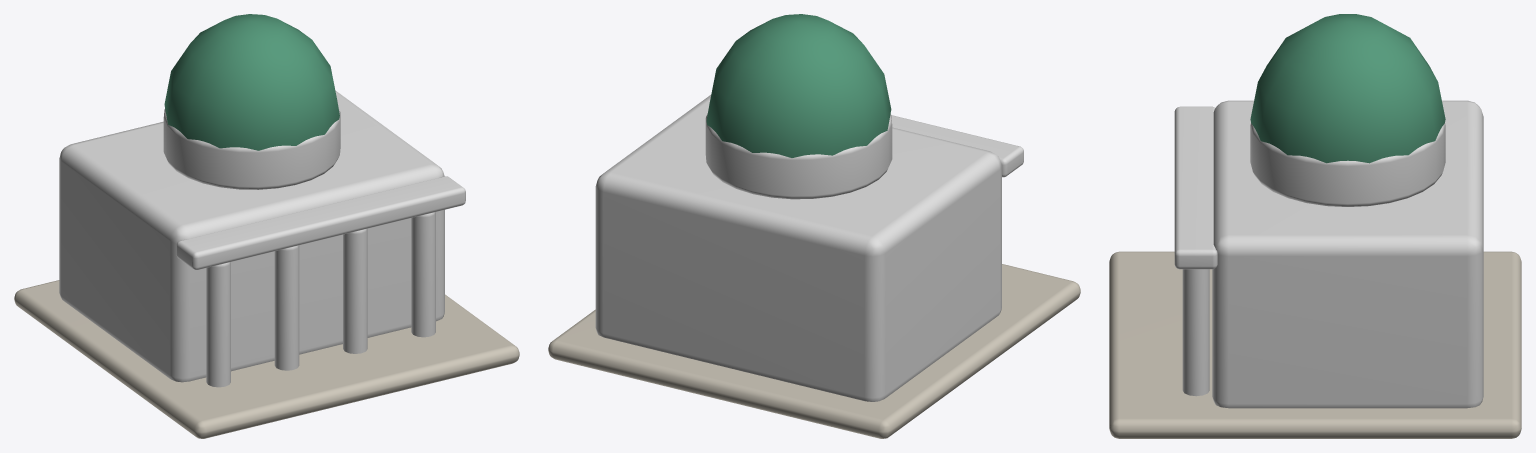
The picture shows the model from 3 angles, left to right: view 1: azimuth 30°, elevation 25°; view 2: azimuth 150°, elevation 25°; view 3: azimuth 270°, elevation 25°; orthographic projection. The views are drawn at different scales.
Parts seen in each view (by area): view 1: Cube; view 2: Cube; view 3: Cube.
Part boxes in pixels (x1,y1,x2,y2): Cube: [14, 14, 519, 438]; Cube: [548, 14, 1080, 438]; Cube: [1109, 14, 1521, 438].
Bounding box in the file's own units: 0.76 × 0.678 × 0.76.
